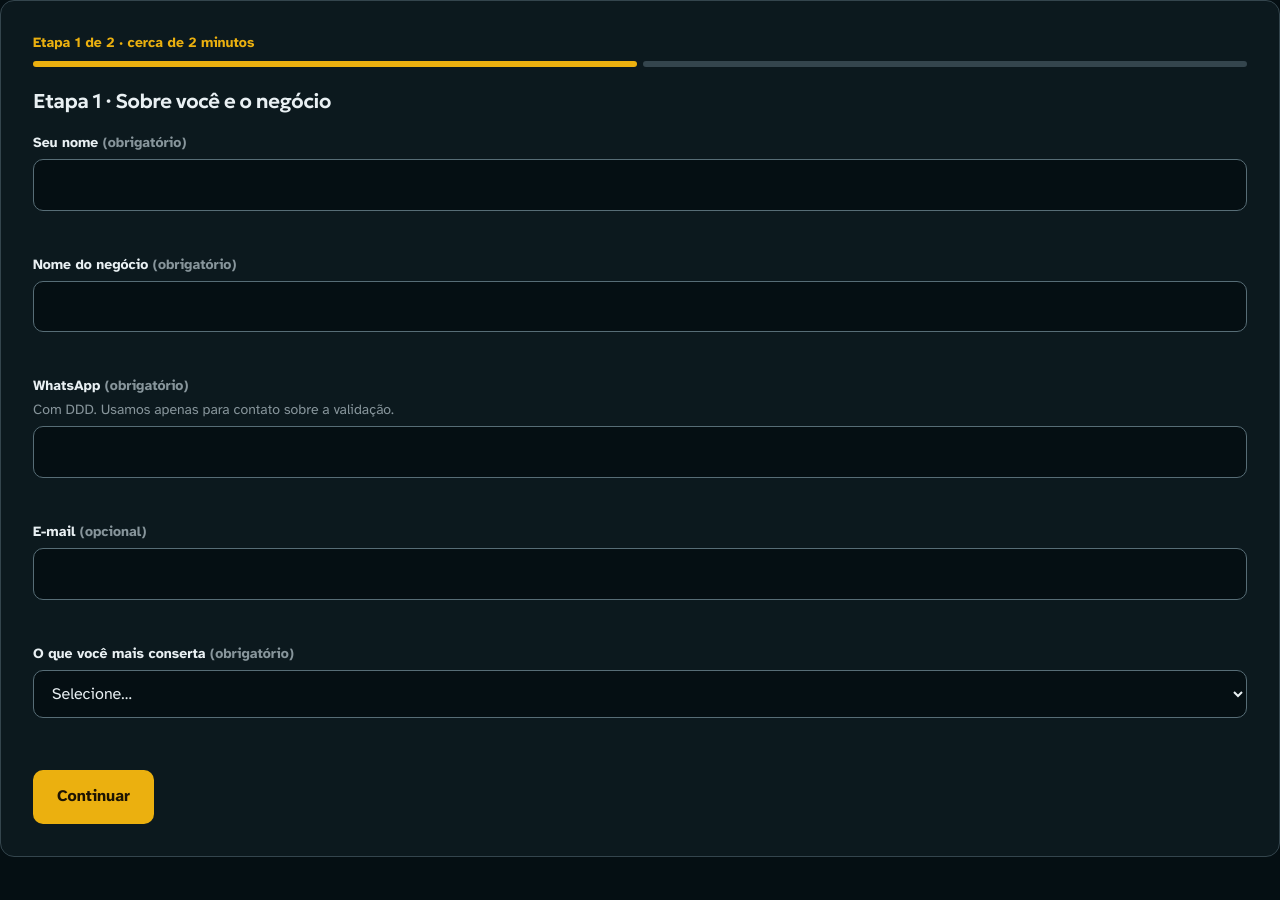
Test case: LeadInterestForm (FR-011..FR-025, NFR-001) › advances to step 2 after a valid step 1 and moves focus to the step 2 heading
This screenshot has width=1280, height=900.
Type "Fulano de Teste" into the field labelled "Seu nome (obrigatório)". click: point(640, 185)
box: top-left (33, 159), bottom-right (1247, 210)
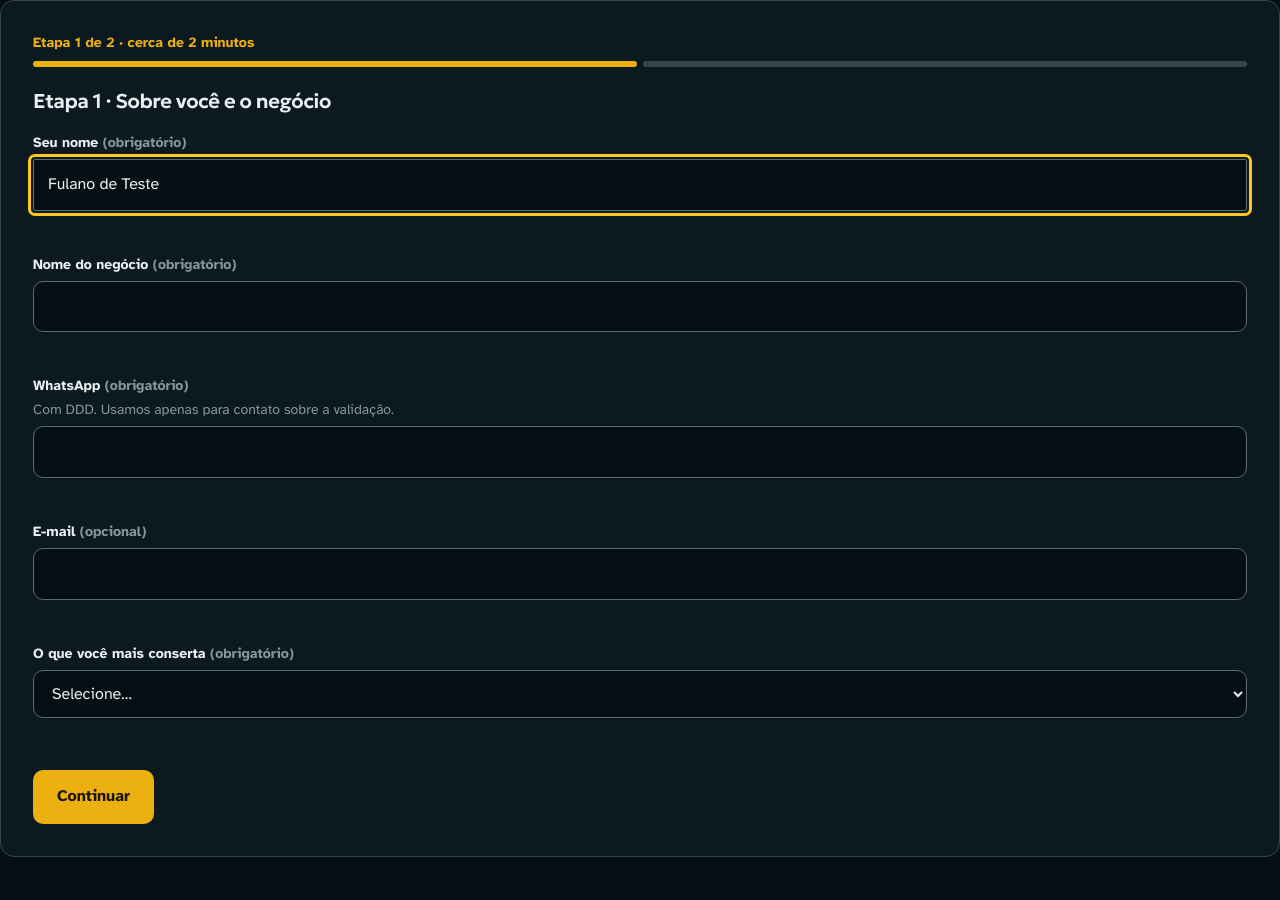
Type "Bancada Sintética" into the field labelled "Nome do negócio (obrigatório)". click: point(640, 306)
box: top-left (33, 280), bottom-right (1247, 332)
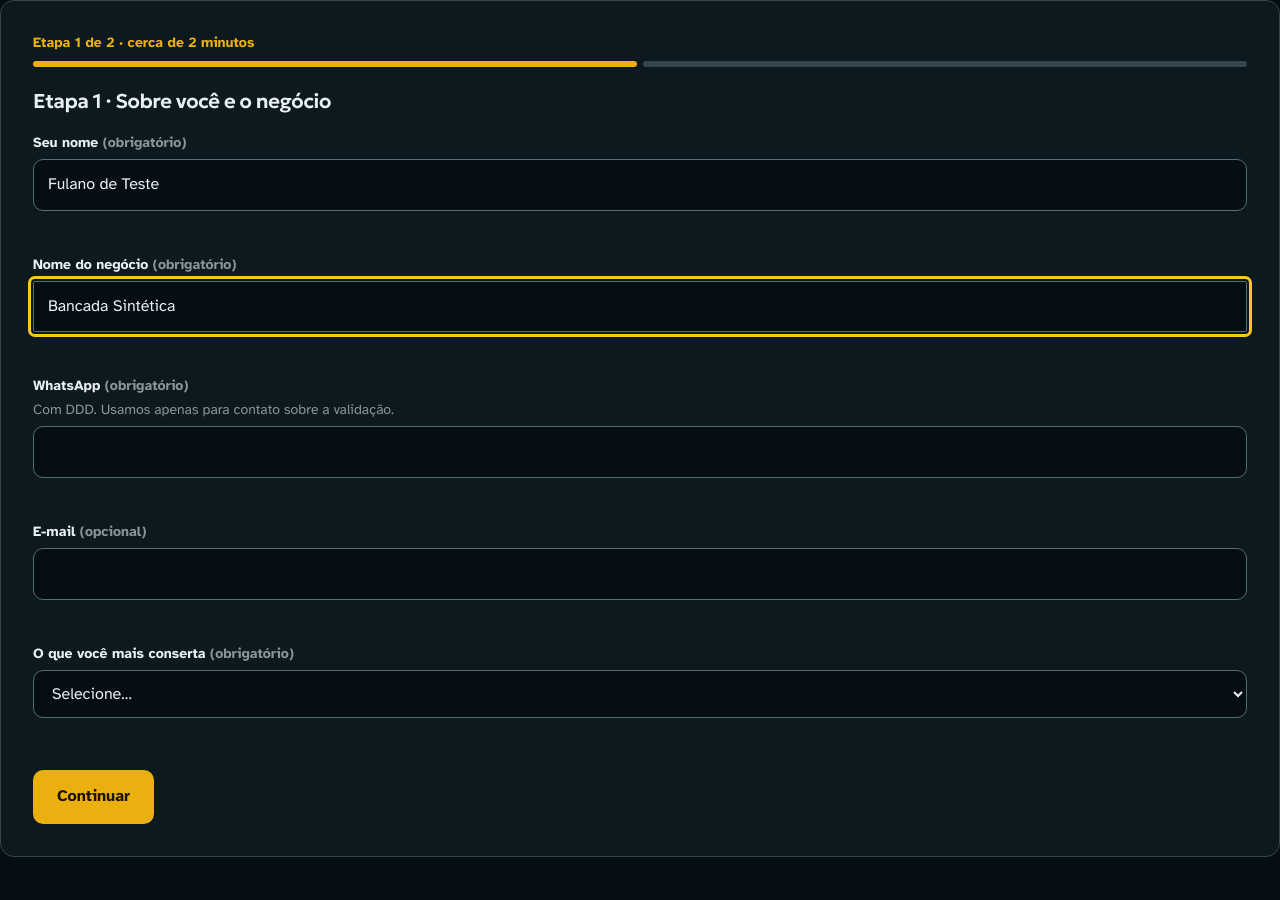
Type "11988887777" into the field labelled "WhatsApp (obrigatório)". click: point(640, 452)
box: top-left (33, 426), bottom-right (1247, 478)
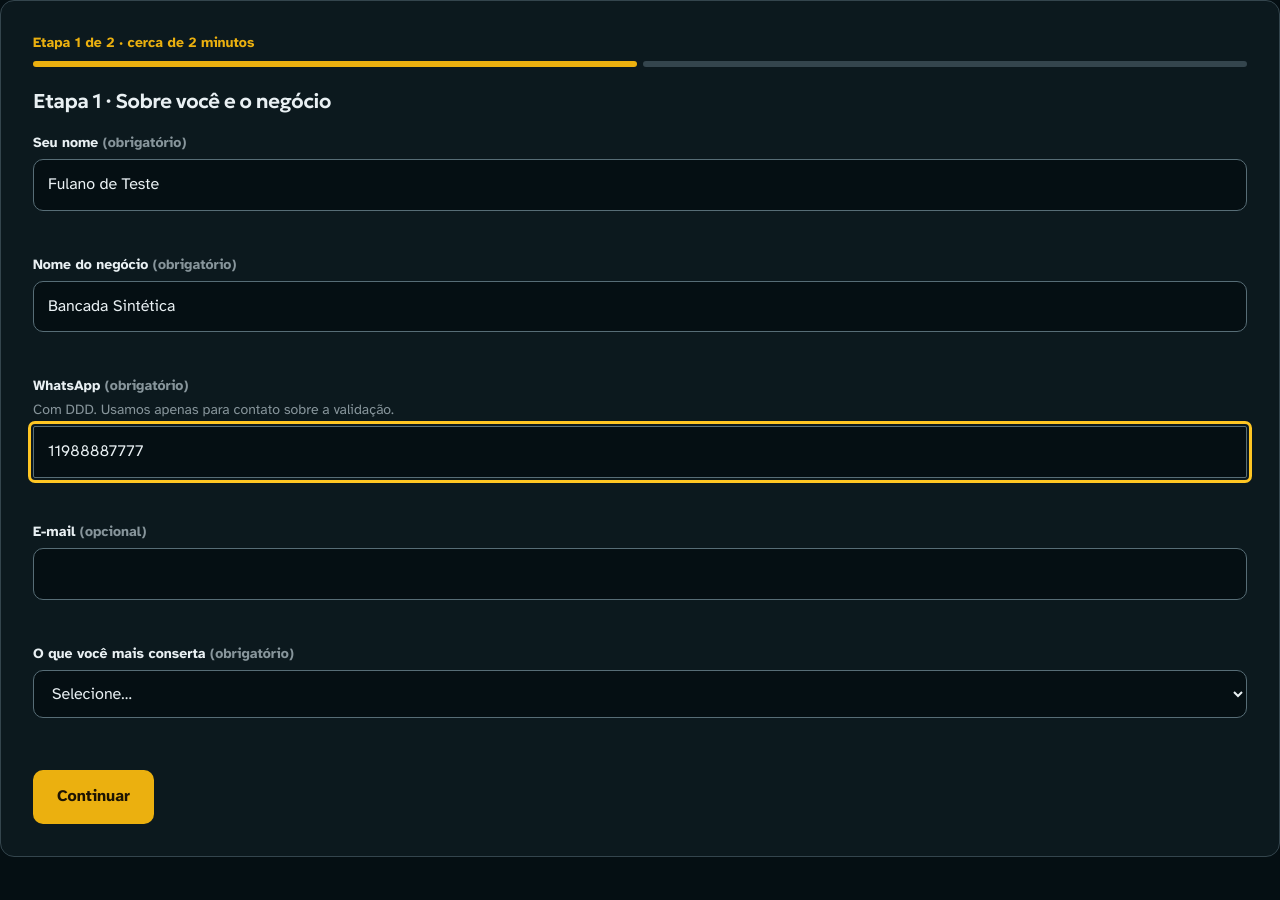
Type "ana@example.com" into the field labelled "E-mail (opcional)". click: point(640, 574)
box: top-left (33, 548), bottom-right (1247, 600)
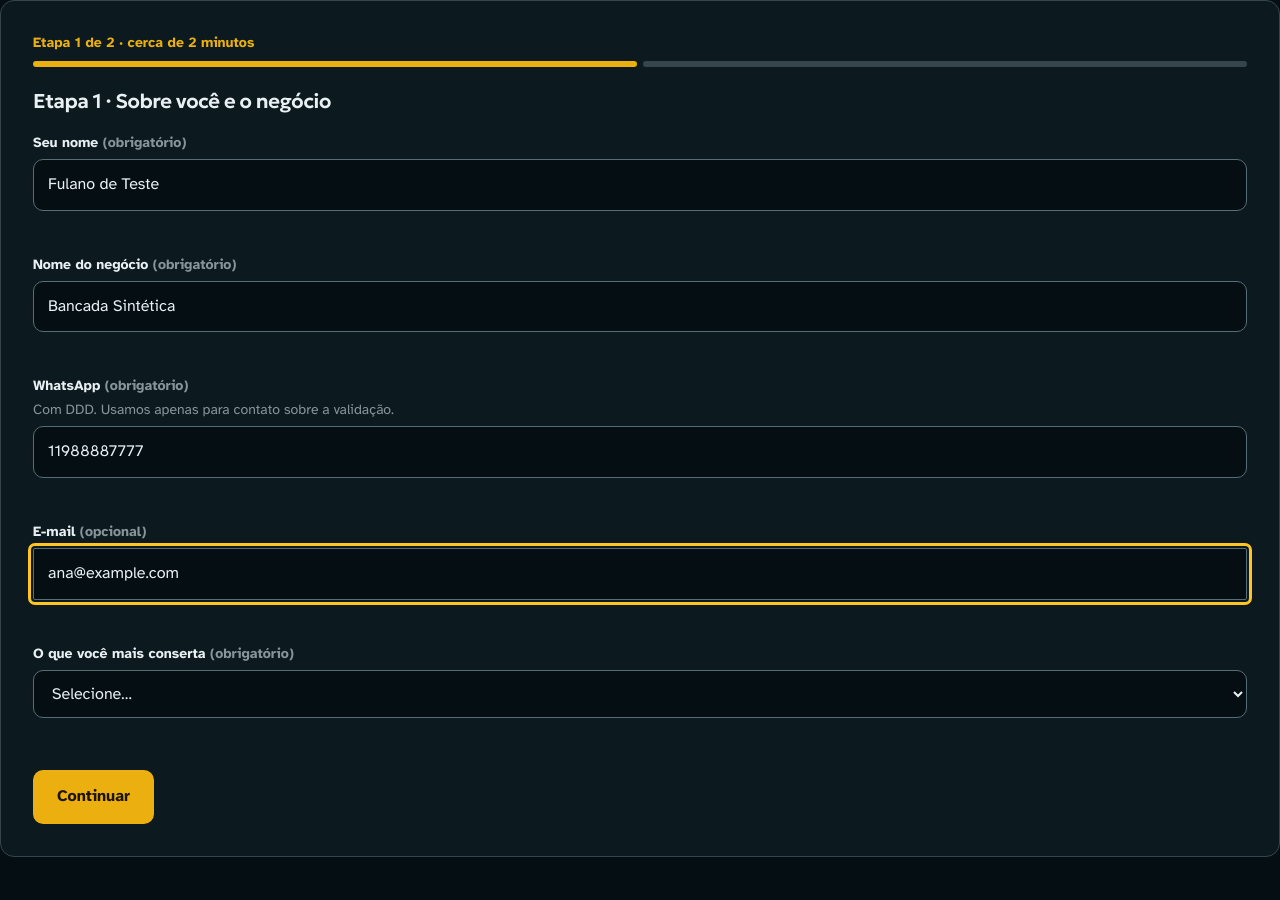
Select "Celulares e tablets" in the dropdown labelled "O que você mais conserta (obrigatório)". click: point(640, 694)
box: top-left (33, 670), bottom-right (1247, 718)
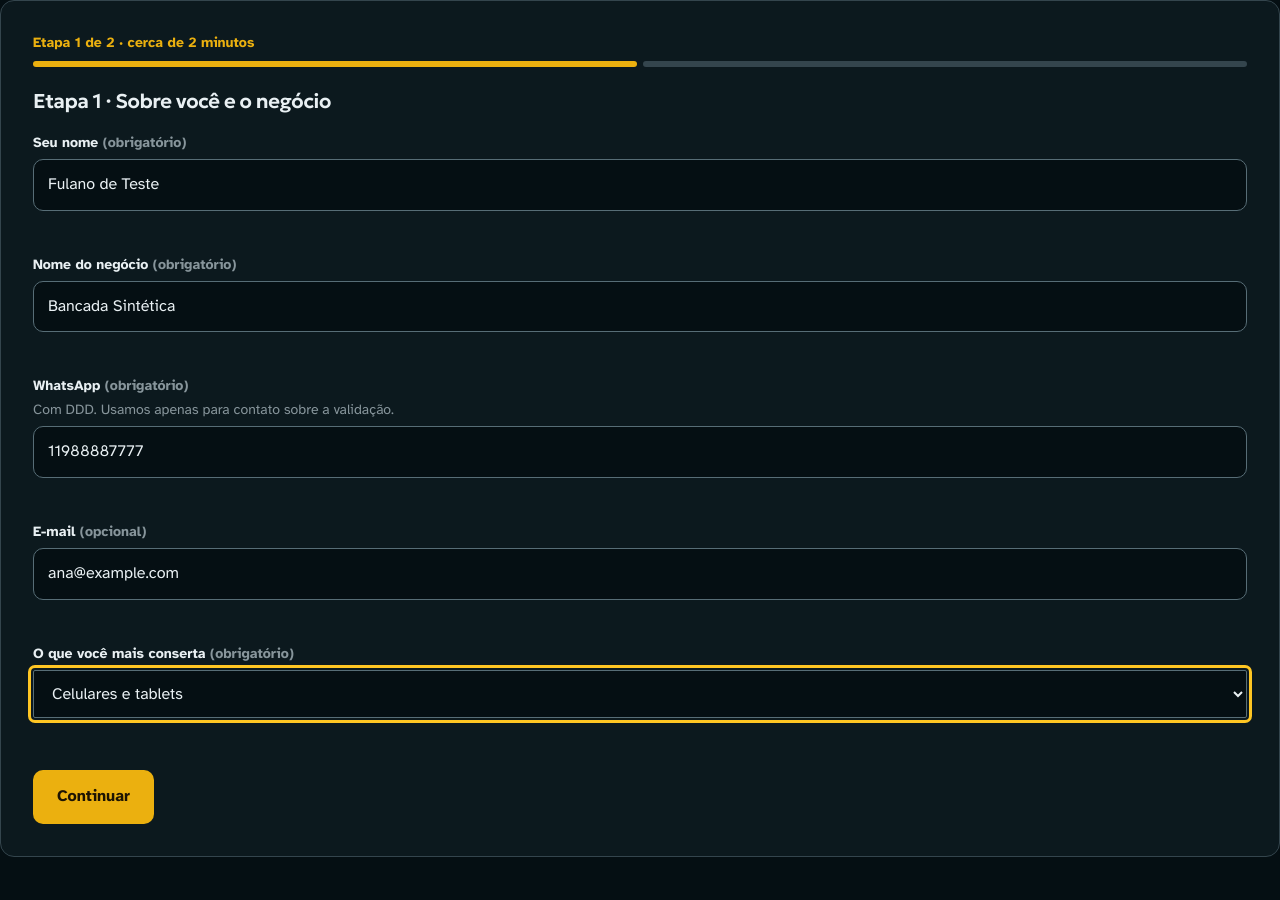
Click the button "Continuar". click: point(94, 797)
box: top-left (33, 770), bottom-right (154, 824)
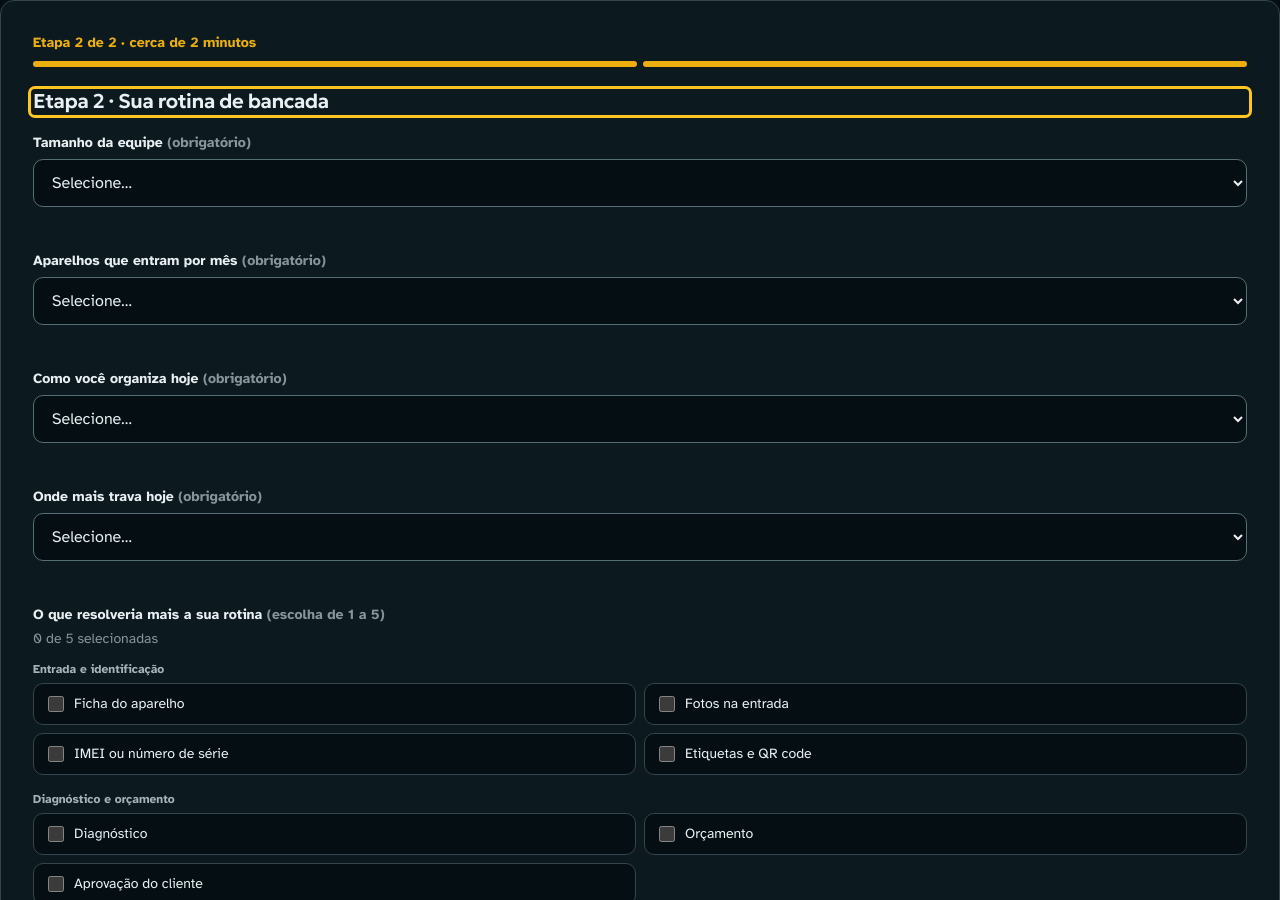
Check: the heading "Etapa 2 · Sua rotina de bancada" is shown, box top-left (33, 88), bottom-right (329, 114)
